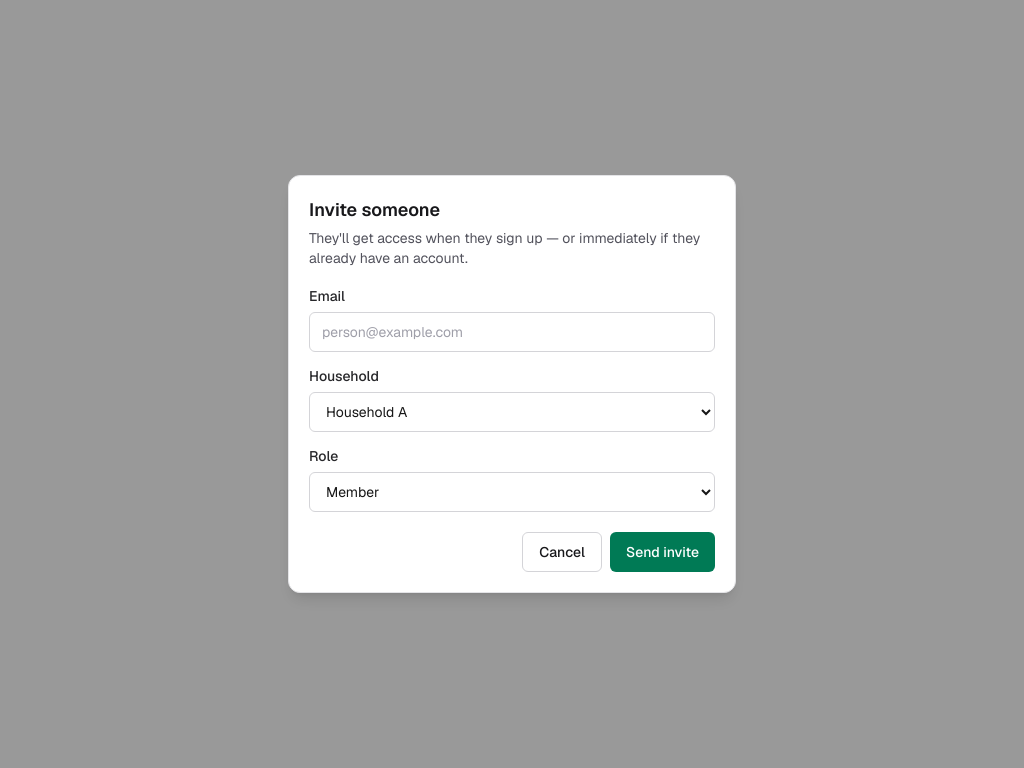
Scenario: InviteDialog › shows validation error for bad email
Type "not-valid" into the field with test id "invite-email" at [512, 332], box [309,312,715,352]
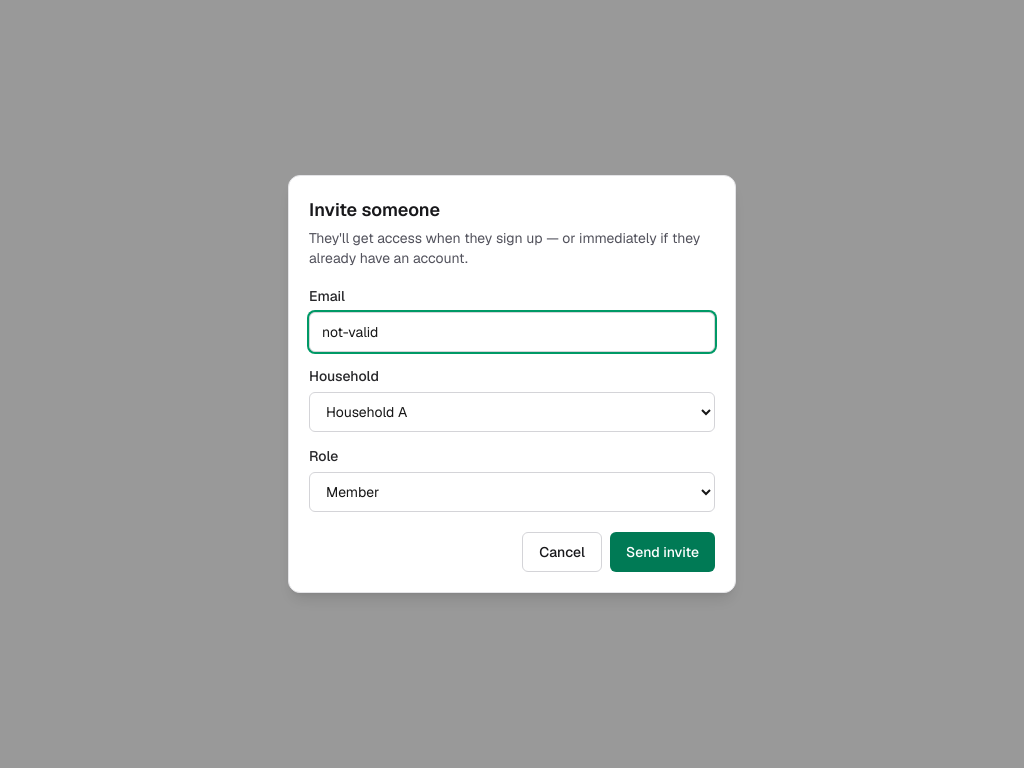
Click the button with test id "invite-submit" at [662, 552], box [610,532,715,572]
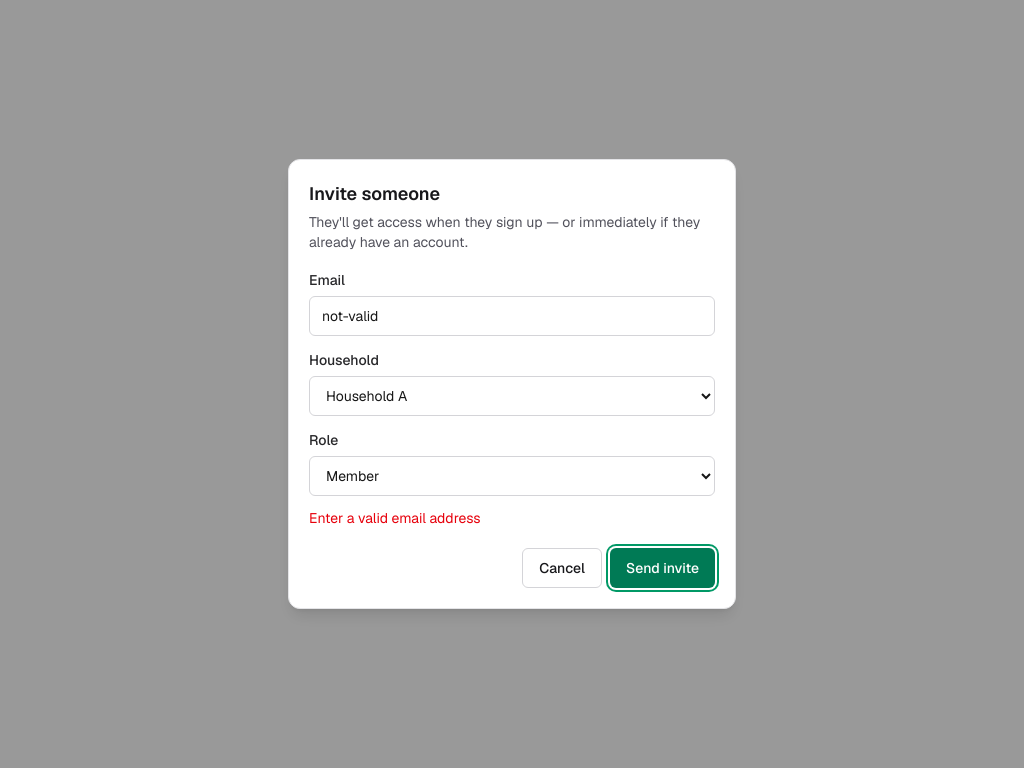
Check: the message with test id "invite-error" shows "valid email", box [309,509,481,527]
